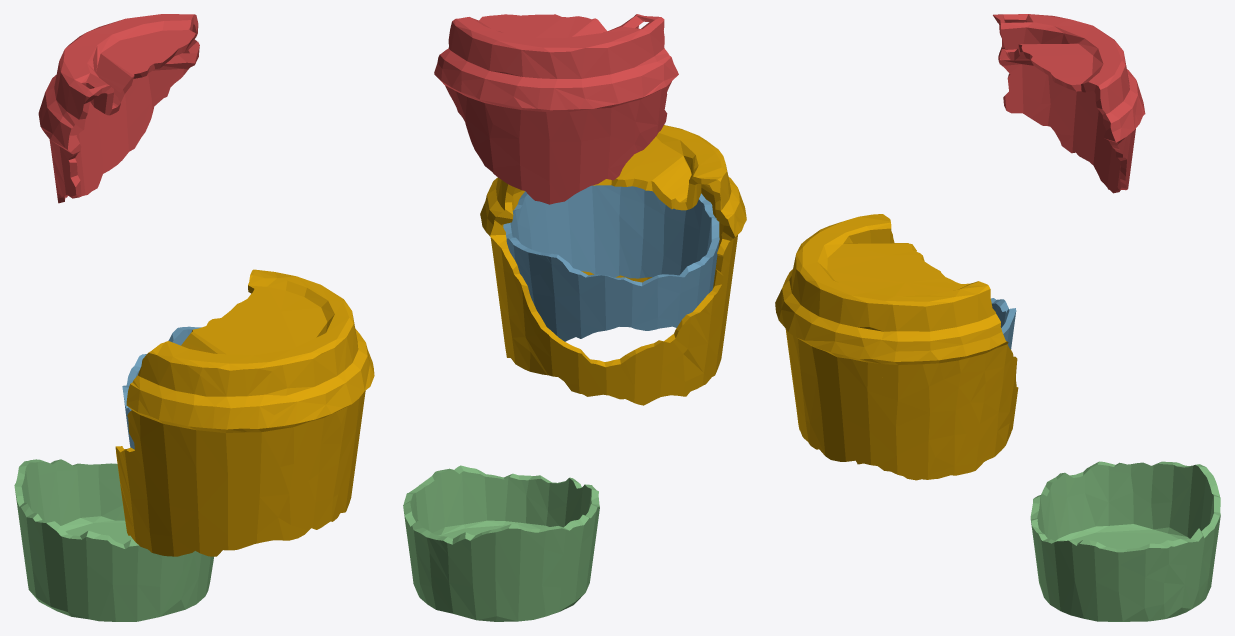
File: fractured_30_4pcs_transformed.glb
3 views of the same model, side by side, from view 1: azimuth 30°, elevation 25°; view 2: azimuth 150°, elevation 25°; view 3: azimuth 270°, elevation 25° (orthographic). The views are drawn at different scales.
Visible parts, largest first — view 1: piece_0.obj, piece_3.obj, piece_1.obj, piece_2.obj; view 2: piece_1.obj, piece_2.obj, piece_3.obj, piece_0.obj; view 3: piece_0.obj, piece_3.obj, piece_1.obj, piece_2.obj.
Part boxes in pixels (x1,y1,x2,y2): piece_0.obj: (115,269,374,556); piece_3.obj: (14,459,213,621); piece_1.obj: (38,14,199,203); piece_2.obj: (122,326,201,449); piece_1.obj: (434,14,678,204); piece_2.obj: (503,185,719,341); piece_3.obj: (403,465,599,621); piece_0.obj: (480,125,746,405); piece_0.obj: (775,214,1018,480); piece_3.obj: (1030,461,1220,621); piece_1.obj: (993,14,1145,193); piece_2.obj: (991,298,1016,349).
Bounding box in the file's own units: 0.7103 × 1.6 × 1.22.
